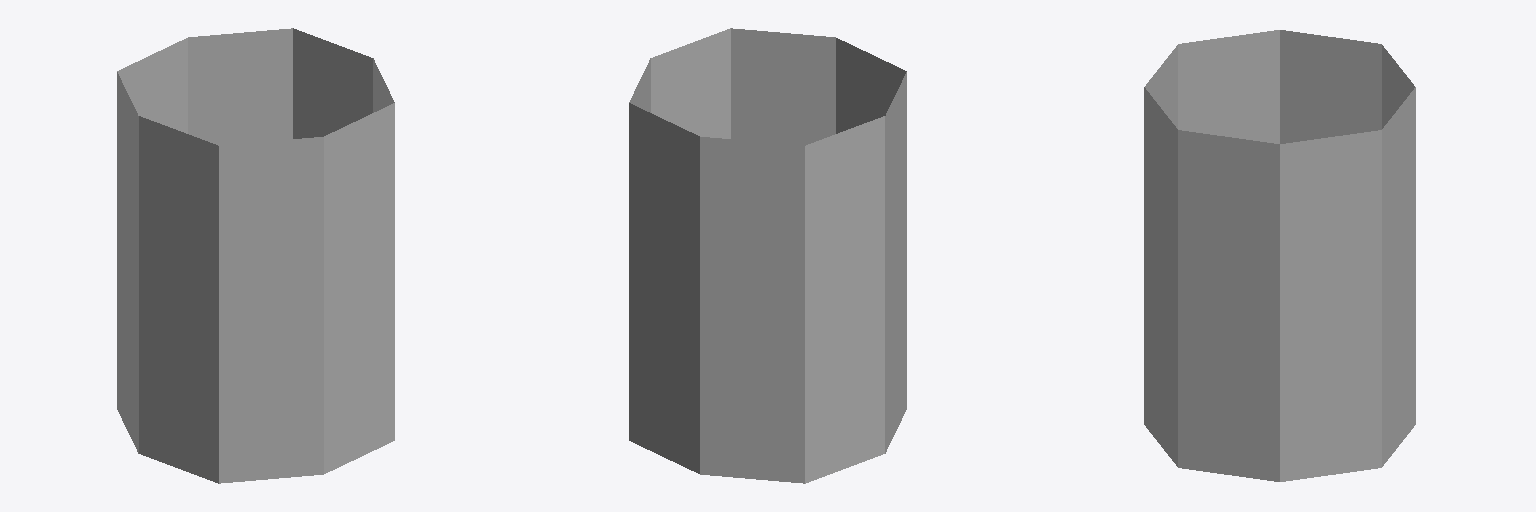
The model's file is barrel_1.obj.
The picture shows the model from 3 angles: view 1: azimuth 30°, elevation 25°; view 2: azimuth 150°, elevation 25°; view 3: azimuth 270°, elevation 25°; orthographic projection.
Size of the model in its own units: 0.8 by 1.1 by 0.8.